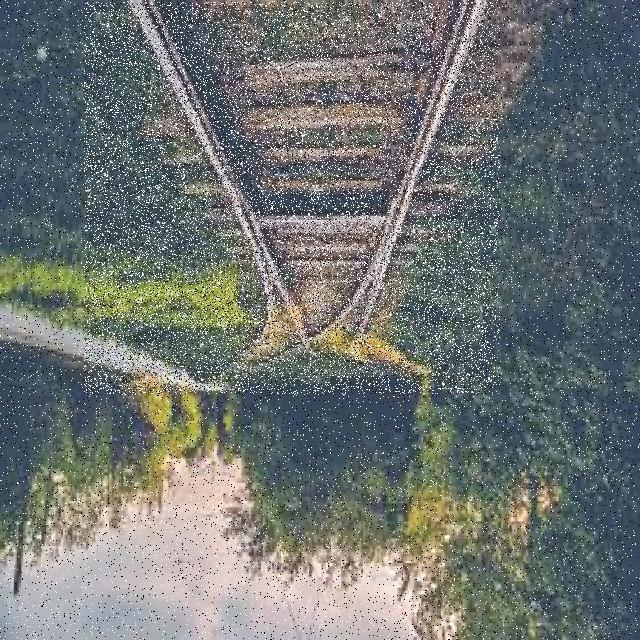rail: (84, 3, 500, 394)
